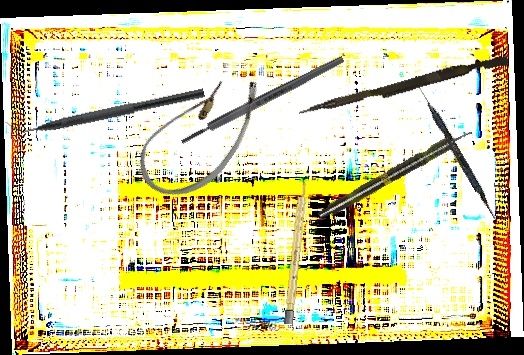Cannula: (126, 50, 275, 216)
Chopper: (3, 74, 206, 143)
Handpiece: (315, 125, 476, 223)
Pusher: (298, 49, 509, 124)
Scalpel Handle: (179, 54, 346, 147), (283, 178, 309, 325)
Spatula Surgical: (408, 75, 503, 224)
